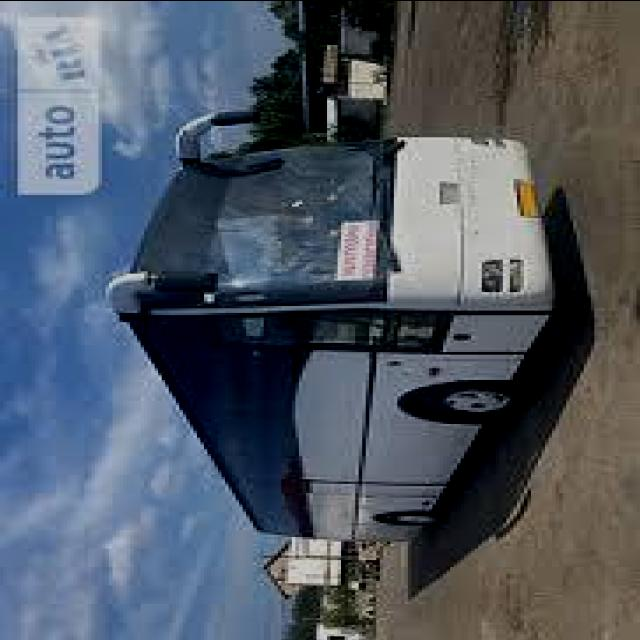bus: (93, 105, 567, 551)
